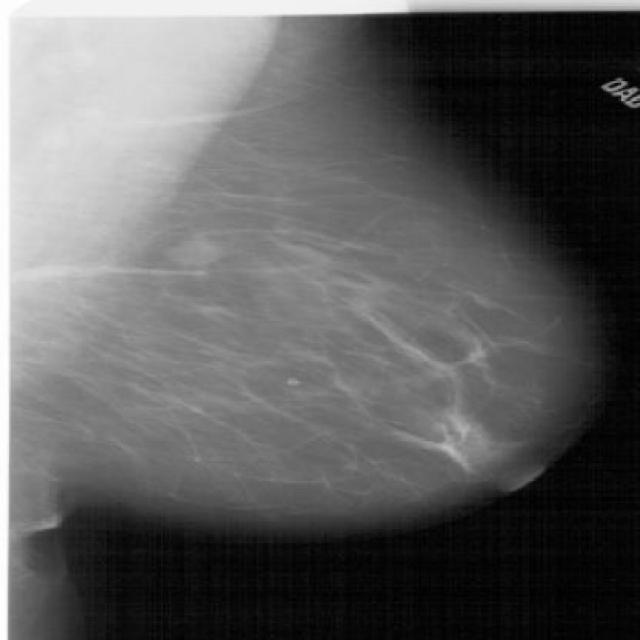tumor: (278, 254, 524, 476)
